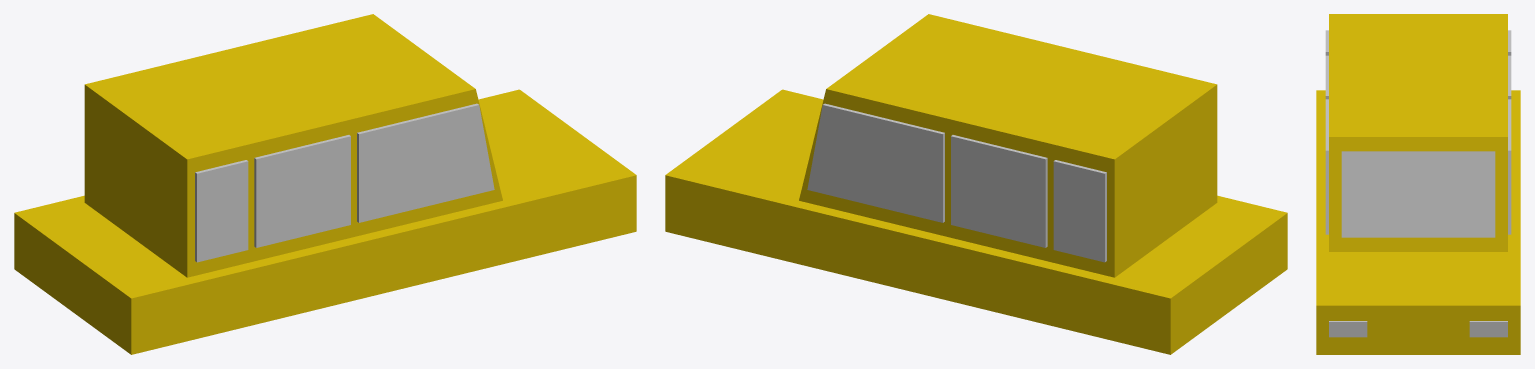
File: car3.fbx
3 views of the same model, side by side, from view 1: azimuth 30°, elevation 25°; view 2: azimuth 150°, elevation 25°; view 3: azimuth 270°, elevation 25° (orthographic). The views are drawn at different scales.
Parts seen in each view (by area): view 1: Cube; view 2: Cube; view 3: Cube.
Boxes of the visible parts, x1,y1,x2,y2 form: Cube: (14, 14, 636, 354); Cube: (665, 14, 1287, 354); Cube: (1316, 14, 1520, 354).
Bounding box in the file's own units: 439 × 144 × 175.
